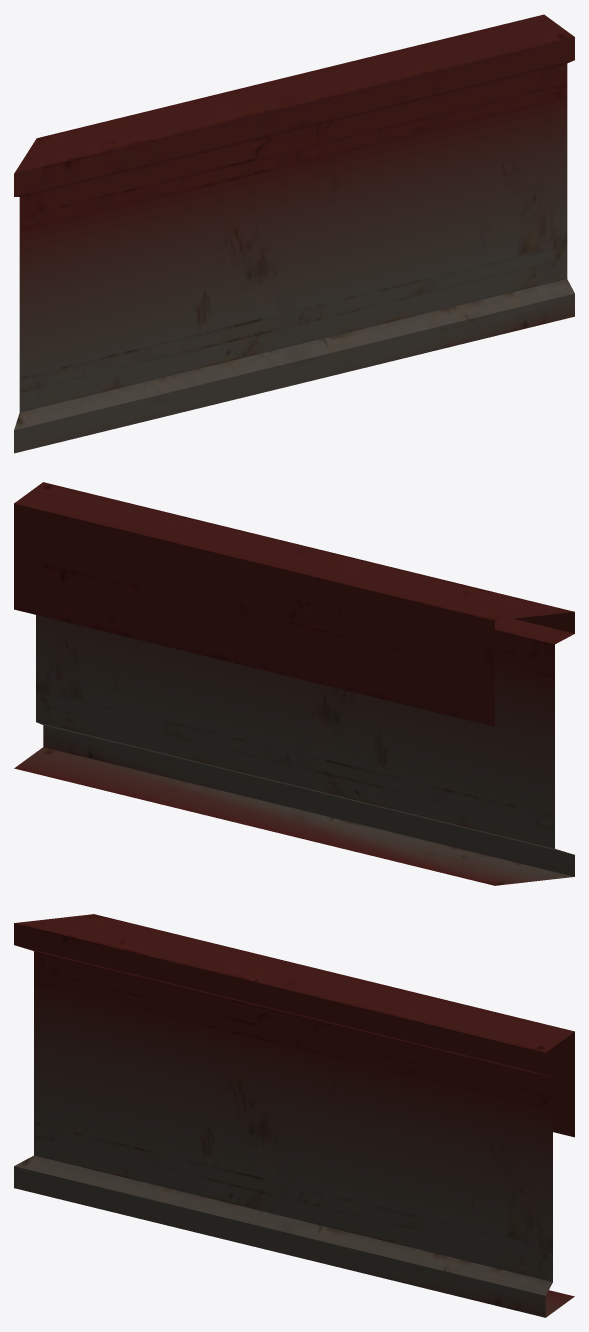
File: Cornice_Metal_L.glb
The picture shows the model from 3 angles, top to bottom: view 1: azimuth 30°, elevation 25°; view 2: azimuth 150°, elevation 25°; view 3: azimuth 330°, elevation 25°; orthographic projection. The views are drawn at different scales.
Visible parts, largest first — view 1: Cornice_Metal_L; view 2: Cornice_Metal_L; view 3: Cornice_Metal_L.
Boxes of the visible parts, <box> form: Cornice_Metal_L: <box>14,14,574,453</box>; Cornice_Metal_L: <box>14,482,574,885</box>; Cornice_Metal_L: <box>14,914,574,1317</box>.
Bounding box in the file's own units: 2.1 × 1 × 0.2.
Materials: 1 (1 with a texture image).
